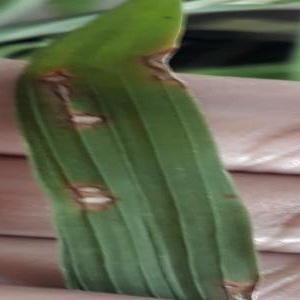Brown_Spot: (136, 35, 194, 96), (62, 99, 115, 142), (27, 62, 74, 89), (38, 83, 80, 113), (69, 192, 114, 214), (65, 174, 107, 196)
